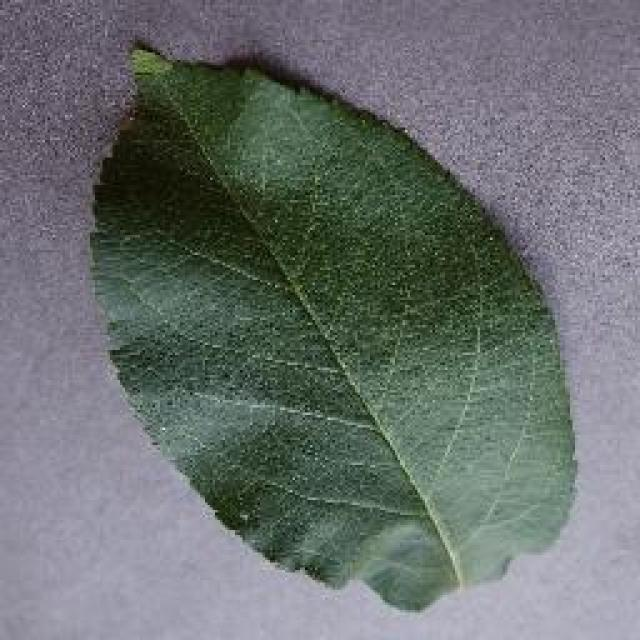apple healthy: (85, 35, 580, 613)
